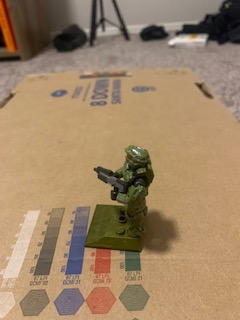soldier: (91, 142, 164, 242)
